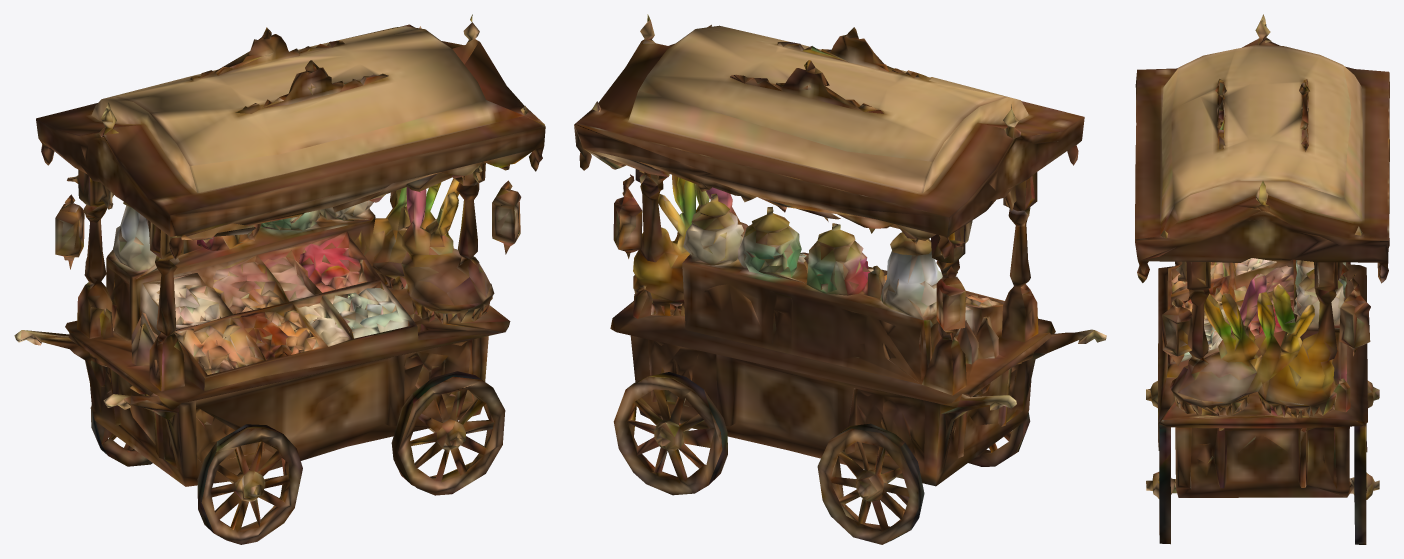
Rendered from kit_mardin_sweets_cart.glb.
3 views of the same model, side by side, from view 1: azimuth 30°, elevation 25°; view 2: azimuth 150°, elevation 25°; view 3: azimuth 270°, elevation 25° (orthographic). The views are drawn at different scales.
Visible parts, largest first — view 1: Mesh1.0; view 2: Mesh1.0; view 3: Mesh1.0.
Part boxes in pixels (box(x1,y1,x2,y2)): Mesh1.0: box(14, 14, 545, 544); Mesh1.0: box(574, 14, 1106, 544); Mesh1.0: box(1135, 14, 1389, 544).
Size of the model in its own units: 1.91 by 1.9 by 1.08.
Materials: 1 (1 with a texture image).
